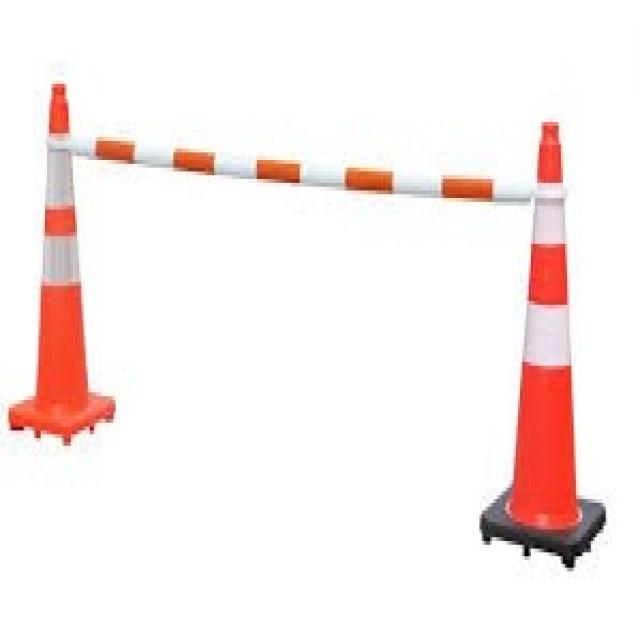Traffic-cone: (472, 109, 617, 576), (8, 77, 119, 460)
